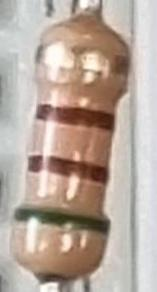Brown: (24, 153, 110, 187), (36, 97, 117, 133)
Green: (13, 204, 110, 238)
Side-Silver: (37, 41, 127, 80)
